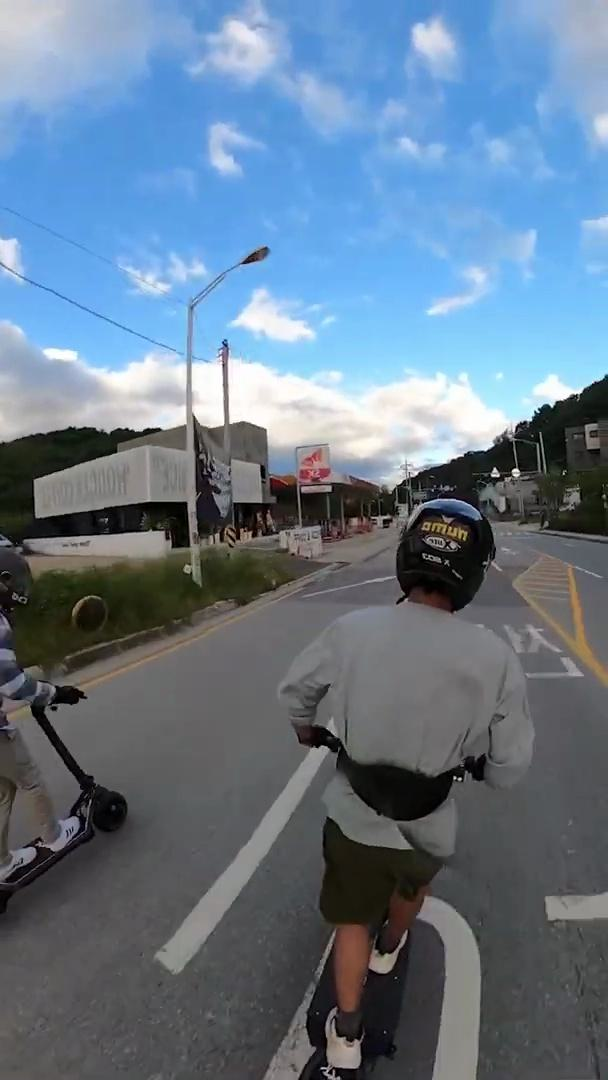helmet: (274, 496, 536, 1080), (0, 545, 132, 924)
